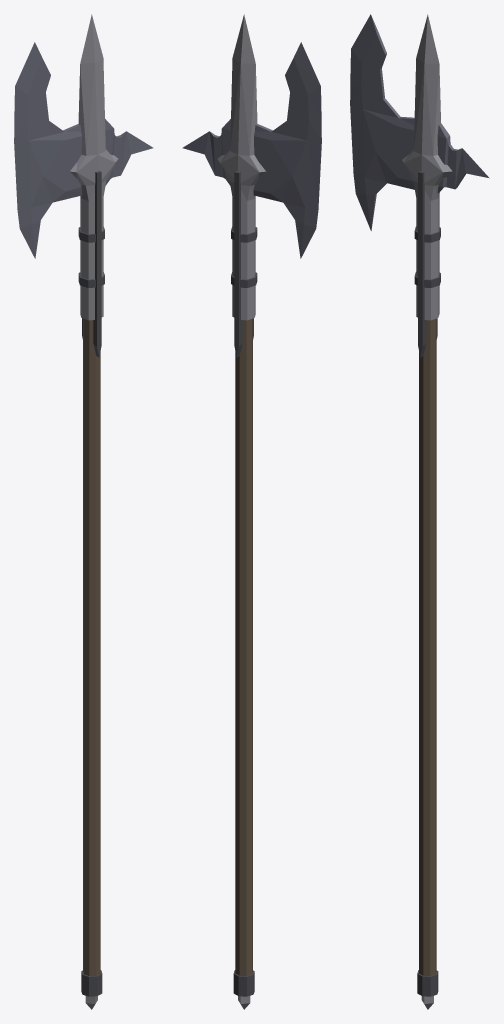
Rendered from Lanca_A08.fbx.
The picture shows the model from 3 angles, left to right: view 1: azimuth 30°, elevation 25°; view 2: azimuth 150°, elevation 25°; view 3: azimuth 330°, elevation 25°; orthographic projection.
Parts seen in each view (by area): view 1: polearm_8; view 2: polearm_8; view 3: polearm_8.
Part boxes in pixels (x1,y1,x2,y2): polearm_8: [14, 14, 153, 1009]; polearm_8: [182, 14, 321, 1009]; polearm_8: [350, 14, 489, 1009].
Size of the model in its own units: 29.92 by 204 by 5.54.
